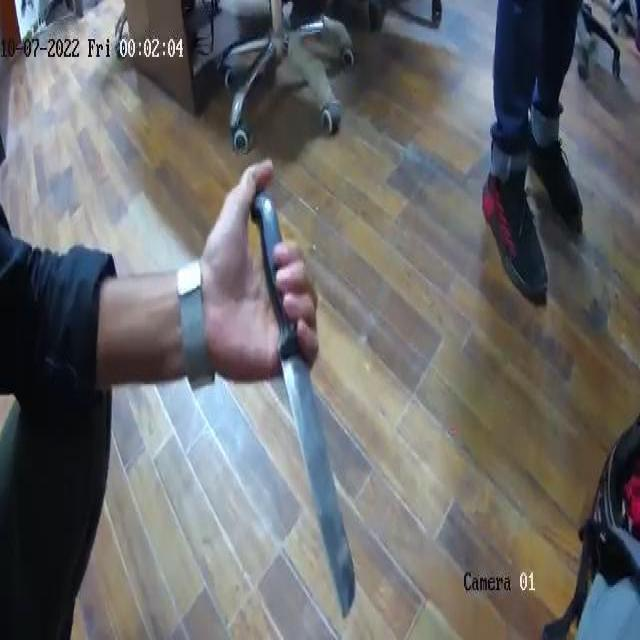faca: (245, 151, 362, 628)
